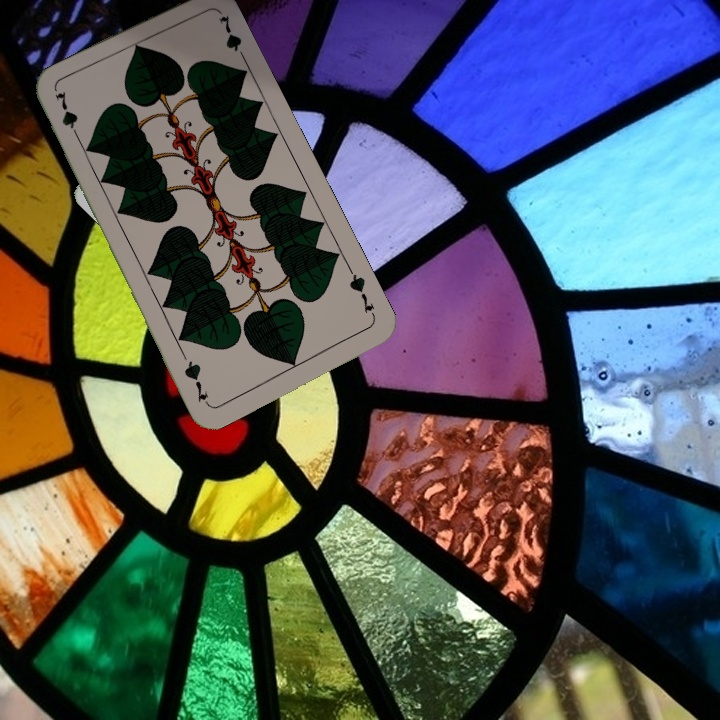G7: (345, 266, 379, 321), (51, 89, 84, 145)
